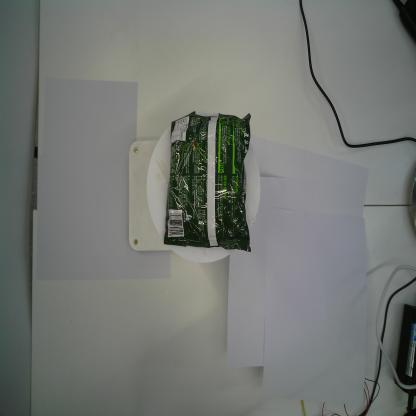Instant Noodles: (164, 111, 252, 254)
